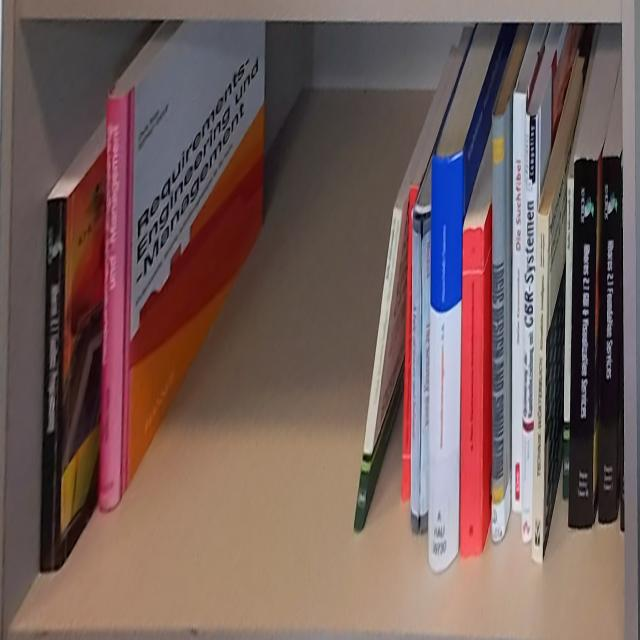Book Spine: (353, 204, 402, 531), (428, 150, 463, 572), (100, 93, 129, 511), (568, 158, 598, 528), (39, 197, 66, 574), (599, 154, 621, 526), (522, 114, 538, 544), (462, 229, 483, 556), (531, 214, 549, 566), (490, 113, 504, 541), (512, 90, 525, 514), (563, 176, 575, 500), (410, 212, 422, 534), (421, 217, 432, 534)
